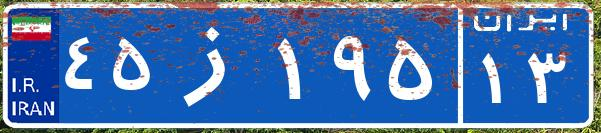1: (273, 28, 330, 110), (475, 38, 525, 113)
3: (525, 38, 570, 115)
4: (57, 26, 110, 107)
5: (385, 28, 445, 110), (110, 28, 158, 105)
9: (330, 28, 385, 110)
ز: (158, 15, 273, 115)
